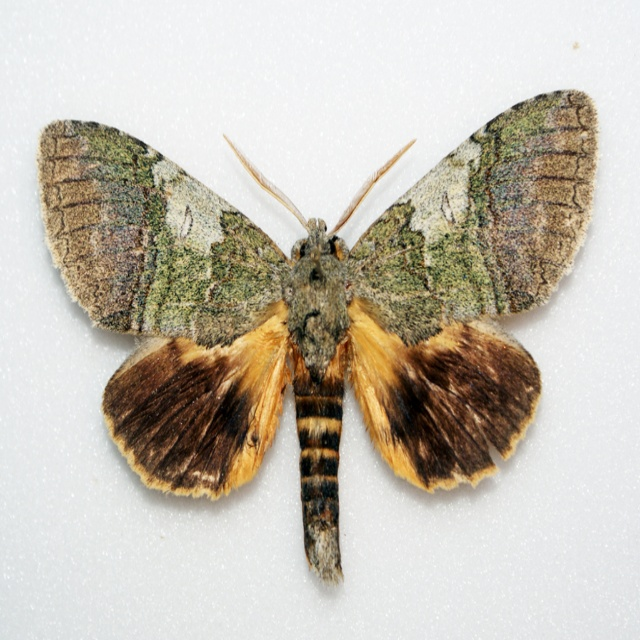Butterfly: (63, 96, 577, 583)
